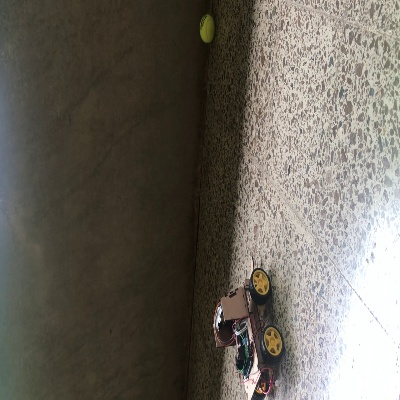Ball: (199, 16, 214, 42)
Robot: (211, 269, 286, 399)
